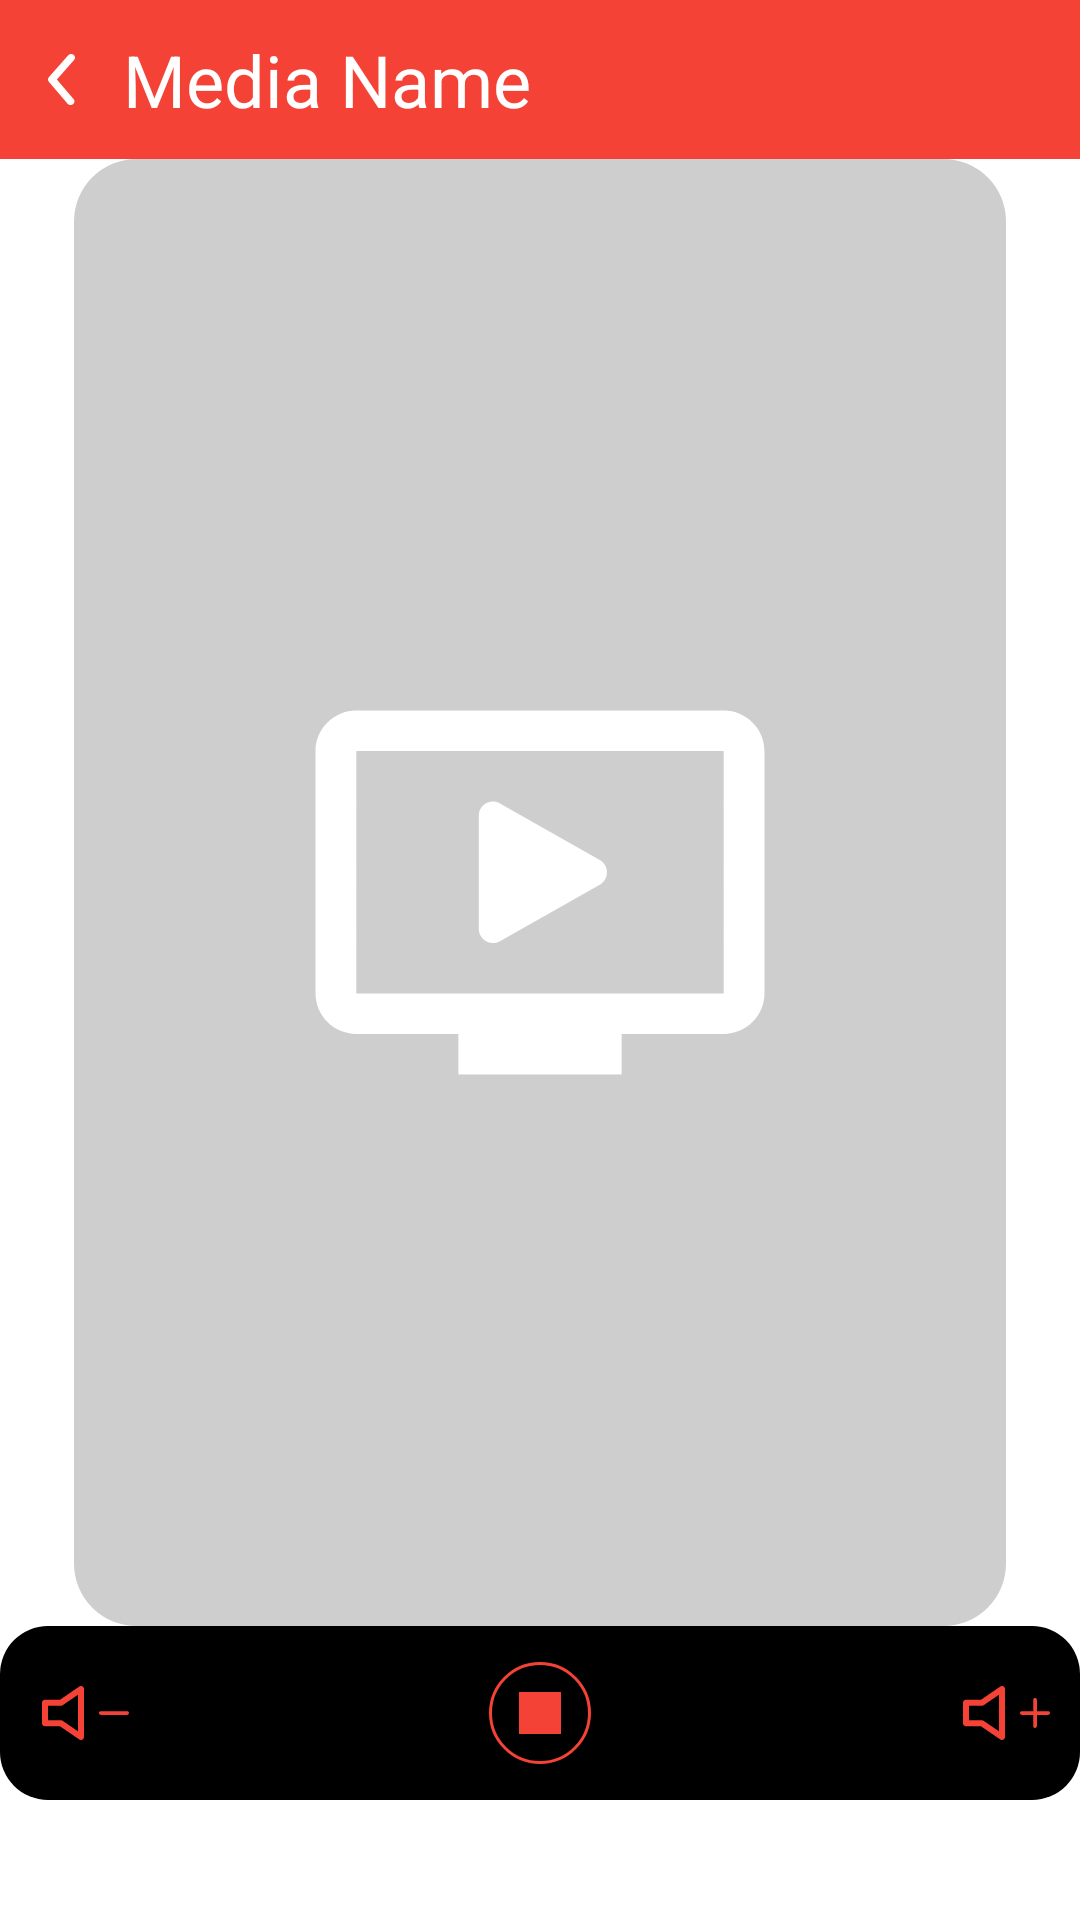

Where to tap for icons on this 1080x1920 app screen, as (x,y):
back arrow: (61,79)
stop cast: (540,1713)
volume down: (85,1713)
volume up: (1006,1713)
